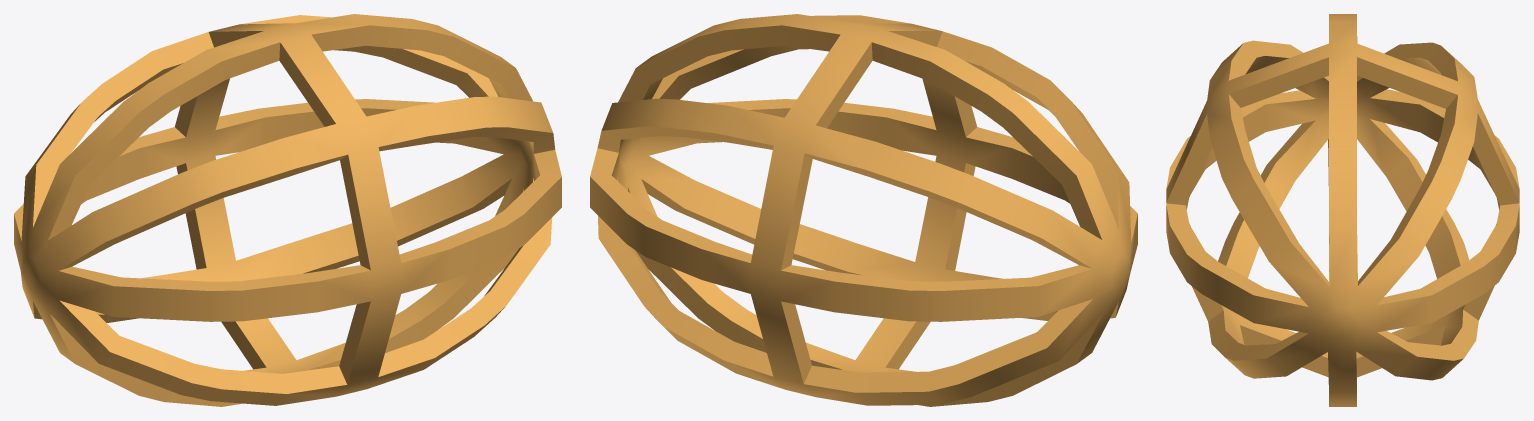
Rendered from OvalMesh_02.fbx.
The picture shows the model from 3 angles, left to right: view 1: azimuth 30°, elevation 25°; view 2: azimuth 150°, elevation 25°; view 3: azimuth 270°, elevation 25°; orthographic projection. The views are drawn at different scales.
Parts seen in each view (by area): view 1: OvalMesh_02; view 2: OvalMesh_02; view 3: OvalMesh_02.
Boxes of the visible parts, box(x1,y1,x2,y2) form: OvalMesh_02: box(14, 14, 561, 406); OvalMesh_02: box(590, 14, 1137, 406); OvalMesh_02: box(1166, 14, 1519, 406).
Bounding box in the file's own units: 406 × 268 × 268.
